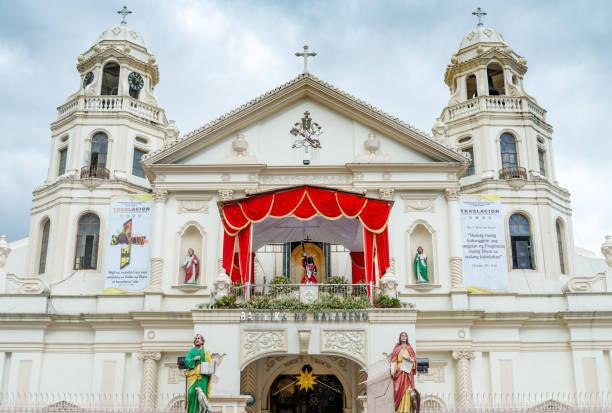quiapo_church_quiapo_manila: (6, 1, 605, 413)
